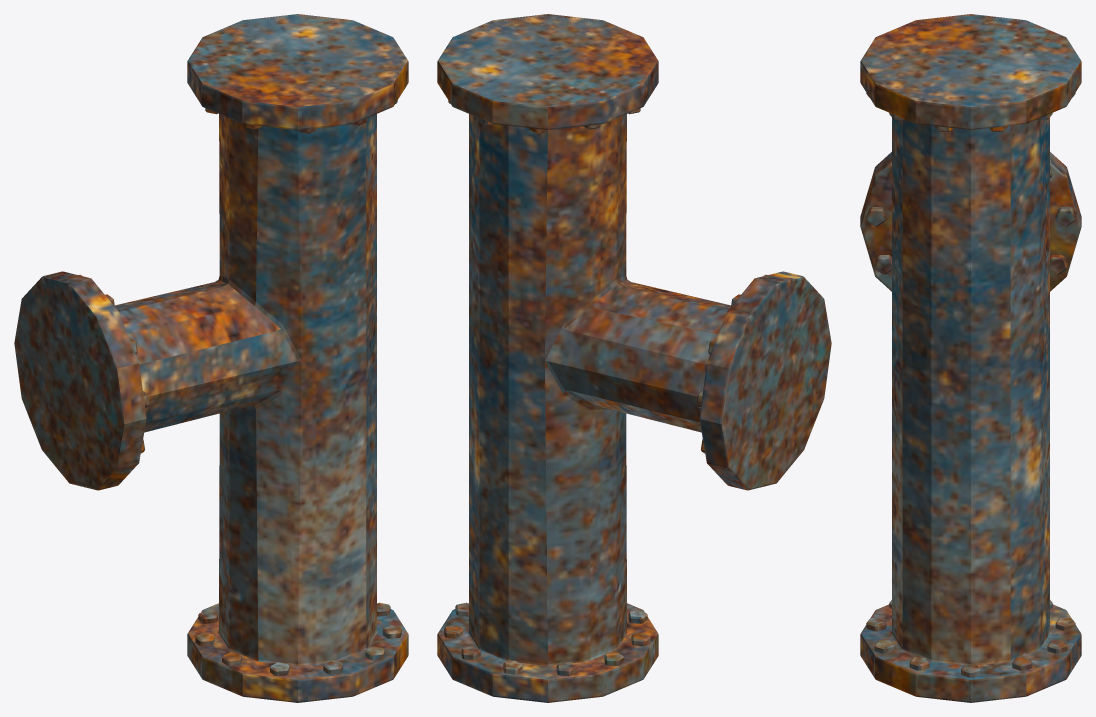
The model's file is pipe.05.fbx.
3 views of the same model, side by side, from view 1: azimuth 30°, elevation 25°; view 2: azimuth 150°, elevation 25°; view 3: azimuth 270°, elevation 25° (orthographic).
Parts seen in each view (by area): view 1: Pipe.05; view 2: Pipe.05; view 3: Pipe.05.
Boxes of the visible parts, box(x1,y1,x2,y2) form: Pipe.05: box(14, 14, 408, 702); Pipe.05: box(437, 14, 831, 702); Pipe.05: box(860, 14, 1081, 702).
Bounding box in the file's own units: 94.84 × 166 × 55.99.
